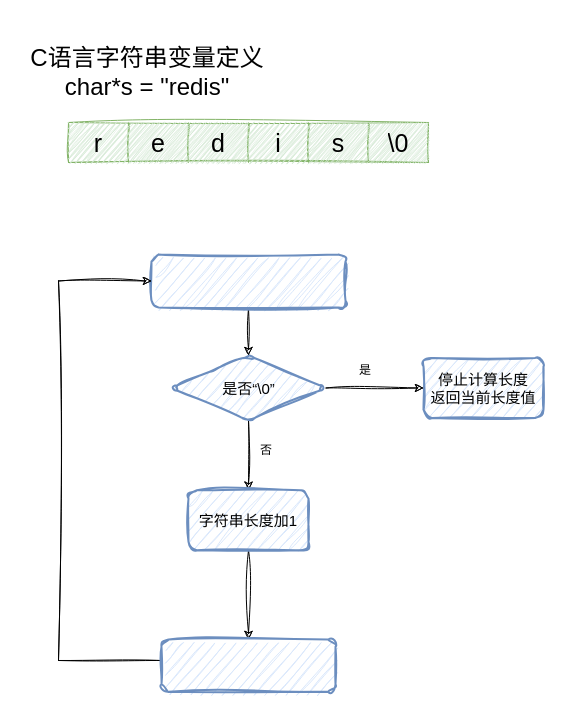
The diagram is 561 pixels wide and 710 high, and some of its shapes have lost their labels. Each missing label, with the box of its shape:
指向char*数组下一个字符: (160, 638, 336, 692)
检查char*数组中的字符: (150, 253, 346, 308)
